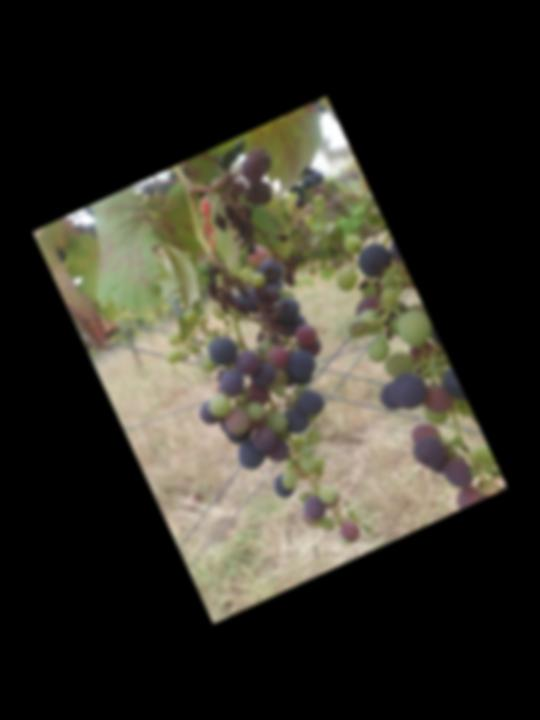grape: (138, 235, 405, 583), (312, 220, 506, 520), (191, 143, 326, 308)
